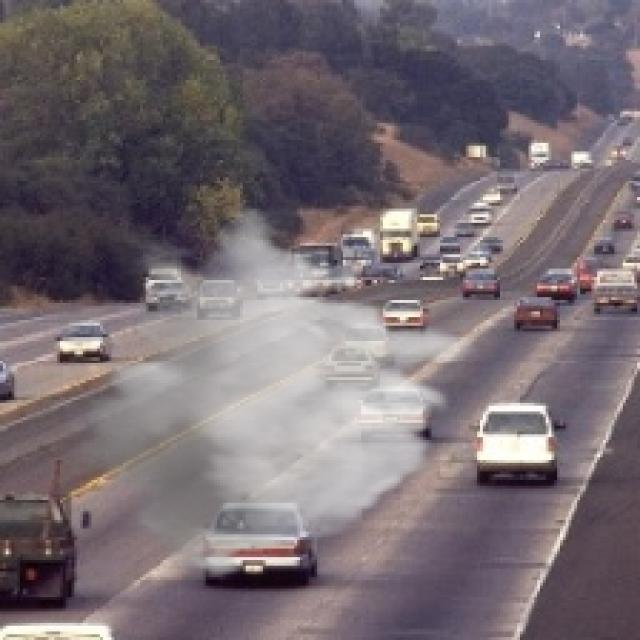Smoke: (57, 206, 477, 583)
